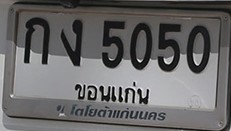txt01: (22, 17, 51, 66)
txt05: (58, 18, 85, 68)
